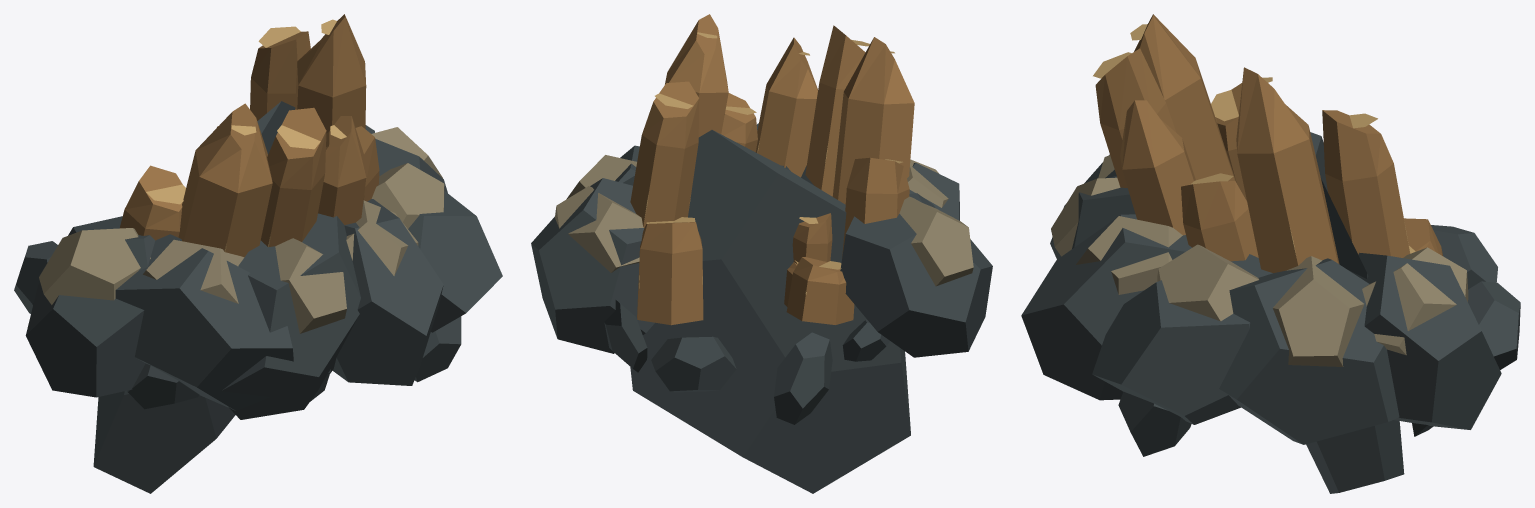
The model's file is amber-fracture.glb.
The picture shows the model from 3 angles, left to right: view 1: azimuth 30°, elevation 25°; view 2: azimuth 150°, elevation 25°; view 3: azimuth 270°, elevation 25°; orthographic projection. The views are drawn at different scales.
Visible parts, largest first — view 1: Basalt matrix, Iron amber crystal, Sand on fracture edges, Pale amber cleavage; view 2: Basalt matrix, Iron amber crystal, Sand on fracture edges, Pale amber cleavage; view 3: Basalt matrix, Iron amber crystal, Sand on fracture edges, Pale amber cleavage.
Part boxes in pixels (left/top/right/bottom): Basalt matrix: left=14, top=101, right=502, bottom=493; Iron amber crystal: left=120, top=14, right=379, bottom=257; Sand on fracture edges: left=39, top=127, right=444, bottom=333; Pale amber cleavage: left=146, top=19, right=346, bottom=251; Basalt matrix: left=531, top=123, right=992, bottom=493; Iron amber crystal: left=630, top=14, right=914, bottom=325; Sand on fracture edges: left=555, top=155, right=973, bottom=286; Pale amber cleavage: left=638, top=32, right=902, bottom=294; Basalt matrix: left=1021, top=132, right=1520, bottom=493; Iron amber crystal: left=1095, top=14, right=1442, bottom=273; Sand on fracture edges: left=1051, top=155, right=1468, bottom=366; Pale amber cleavage: left=1093, top=24, right=1415, bottom=257.
Size of the model in its own units: 2.33 by 2.46 by 2.19.
